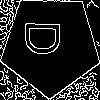D: (25, 20, 69, 57)
